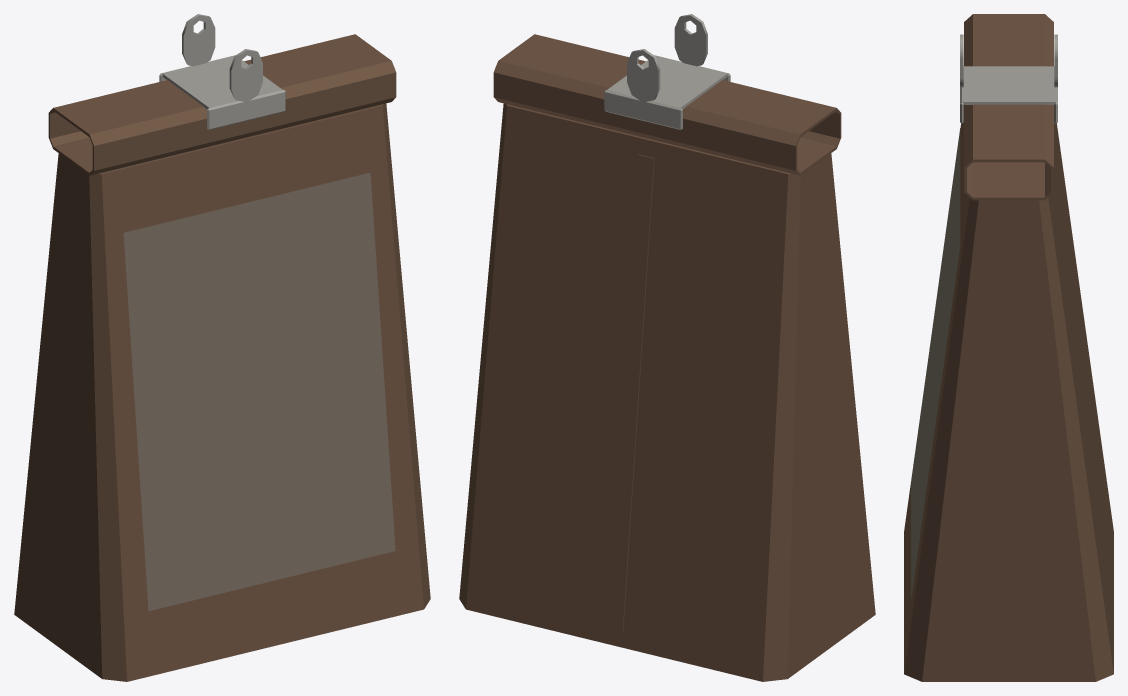
The model's file is coffee-bag-f55207f96e1d.glb.
3 views of the same model, side by side, from view 1: azimuth 30°, elevation 25°; view 2: azimuth 150°, elevation 25°; view 3: azimuth 270°, elevation 25° (orthographic).
Parts seen in each view (by area): view 1: wood, cover-print, brushed; view 2: wood, brushed; view 3: wood, cover-print, brushed.
Part boxes in pixels (x1,y1,x2,y2): wood: [14, 34, 430, 681]; cover-print: [123, 172, 395, 610]; brushed: [159, 14, 285, 130]; wood: [459, 34, 875, 681]; brushed: [604, 14, 730, 130]; wood: [904, 14, 1113, 681]; cover-print: [911, 128, 960, 600]; brushed: [960, 34, 1057, 123].
Size of the model in its own units: 0.125 by 0.209 by 0.07.
